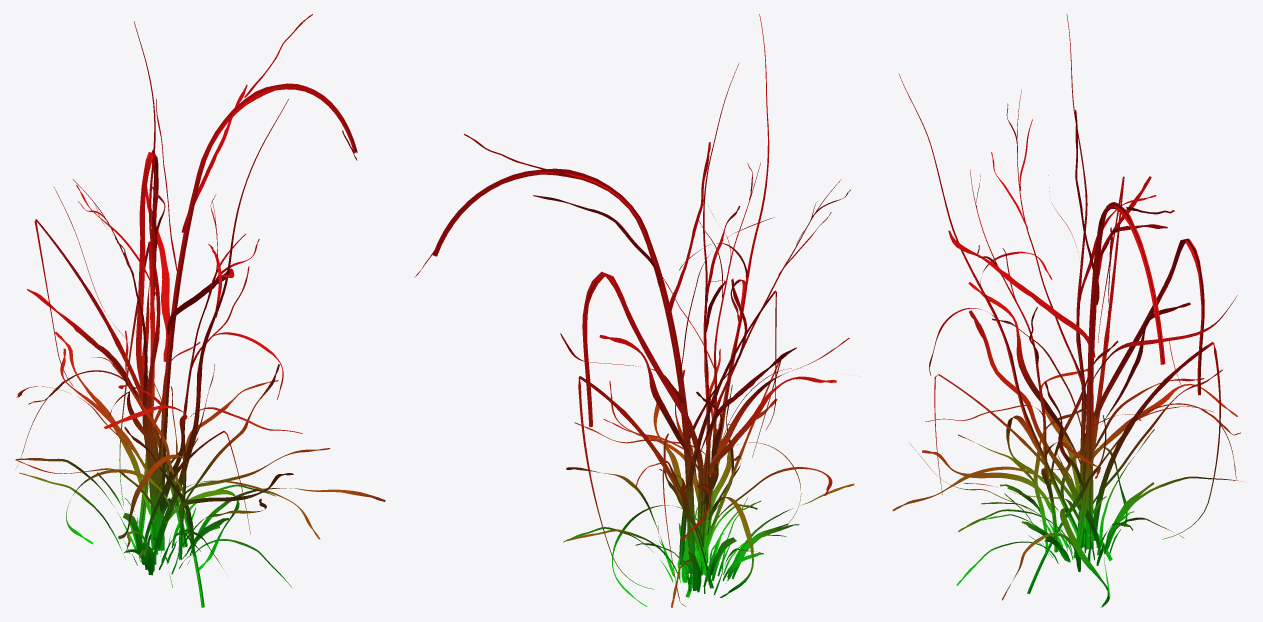
The model's file is tefocd1r_Var5_LOD0.fbx.
3 renders of one model, left to right at view 1: azimuth 30°, elevation 25°; view 2: azimuth 150°, elevation 25°; view 3: azimuth 270°, elevation 25°, orthographic. The views are drawn at different scales.
Visible parts, largest first — view 1: _f80a_Var5_LOD0; view 2: _f80a_Var5_LOD0; view 3: _f80a_Var5_LOD0.
Part boxes in pixels (bbox=[...]): _f80a_Var5_LOD0: bbox=[15, 14, 385, 607]; _f80a_Var5_LOD0: bbox=[414, 14, 854, 607]; _f80a_Var5_LOD0: bbox=[892, 14, 1244, 607].
Bounding box in the file's own units: 34.78 × 49.83 × 28.84.
